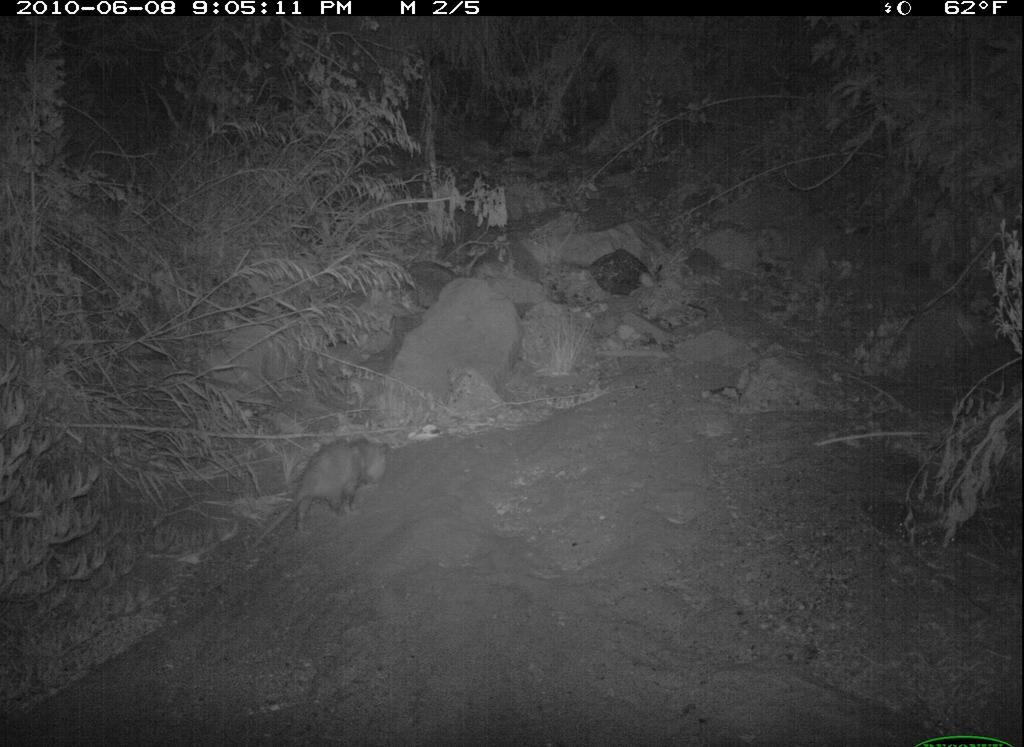opossum: (258, 436, 393, 545)
